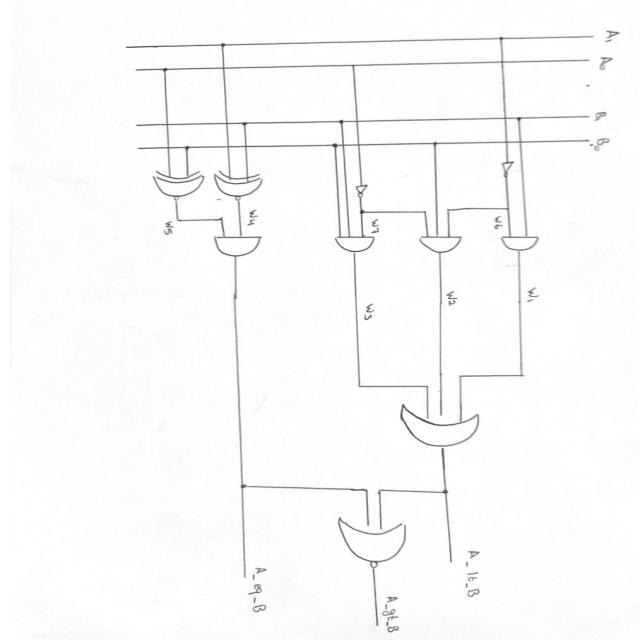AND: (205, 230, 272, 265), (499, 231, 555, 259), (416, 230, 469, 259), (330, 232, 379, 260)
NOR: (328, 511, 416, 573)
NOT: (499, 159, 518, 176), (352, 183, 372, 199)
OR: (388, 401, 491, 454)
XNOR: (144, 164, 208, 203), (210, 163, 269, 204)
